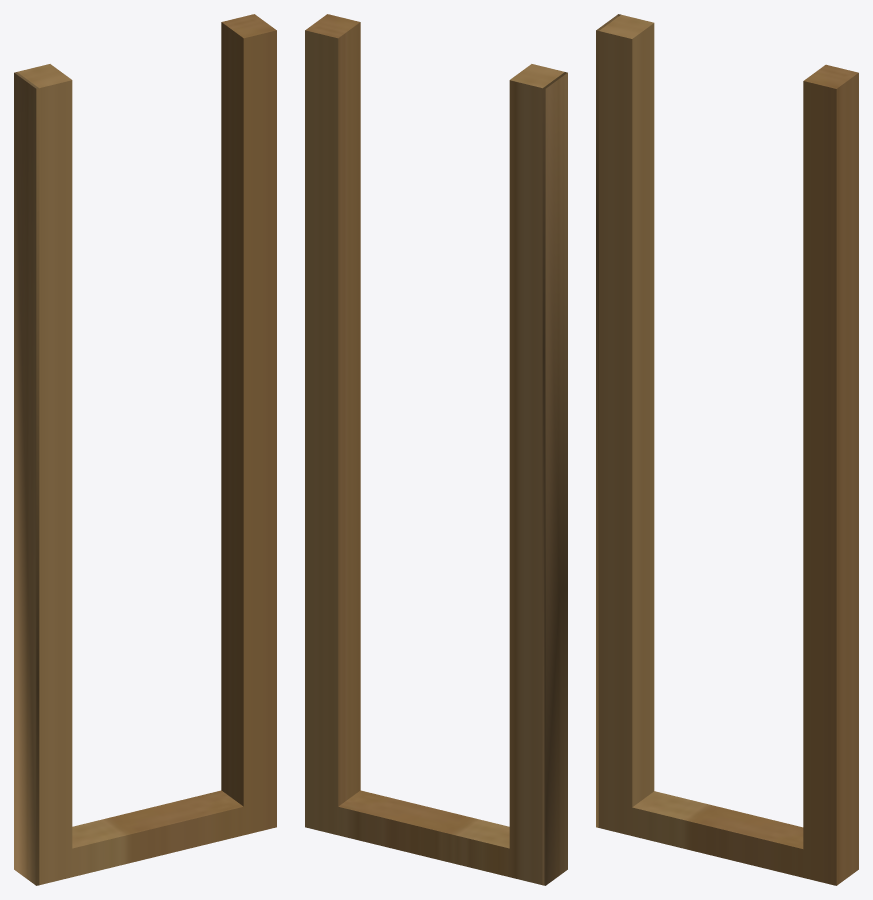
File: ColumnaS4.obj
3 renders of one model, left to right at view 1: azimuth 30°, elevation 25°; view 2: azimuth 150°, elevation 25°; view 3: azimuth 330°, elevation 25°, orthographic.
Parts seen in each view (by area): view 1: ColumnaS4; view 2: ColumnaS4; view 3: ColumnaS4.
Boxes of the visible parts, x1=… form: ColumnaS4: x1=14, y1=14, x2=276, y2=885; ColumnaS4: x1=305, y1=14, x2=567, y2=885; ColumnaS4: x1=596, y1=14, x2=858, y2=885.
Size of the model in its own units: 3.57 by 11.3 by 0.5733.
Materials: 1 (1 with a texture image).
